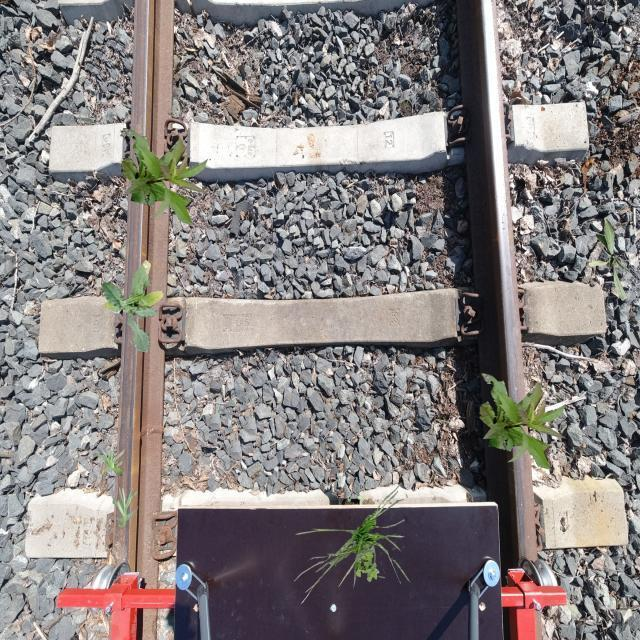Plant: (294, 482, 412, 604), (121, 128, 210, 226), (479, 373, 568, 470), (102, 259, 164, 352), (589, 219, 629, 302), (93, 443, 126, 478), (112, 487, 138, 529), (356, 552, 380, 582)
